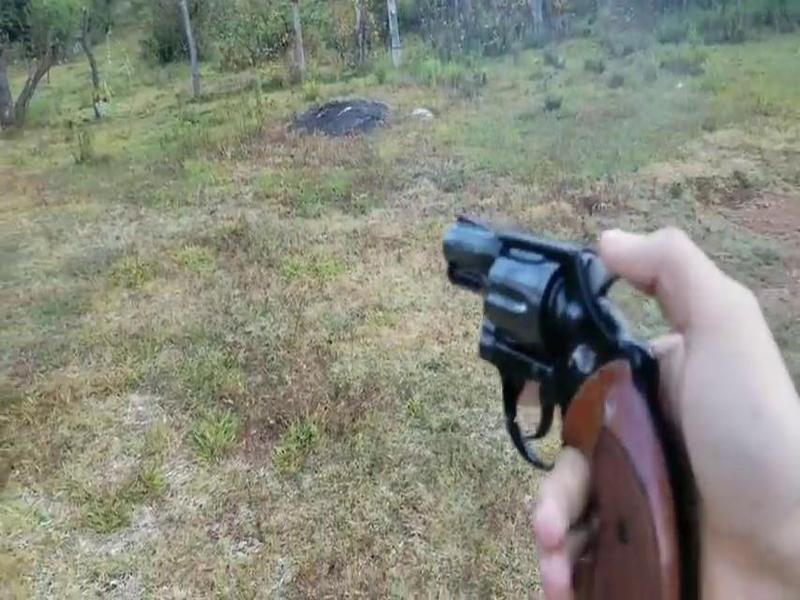Revolver: (429, 206, 724, 574)
